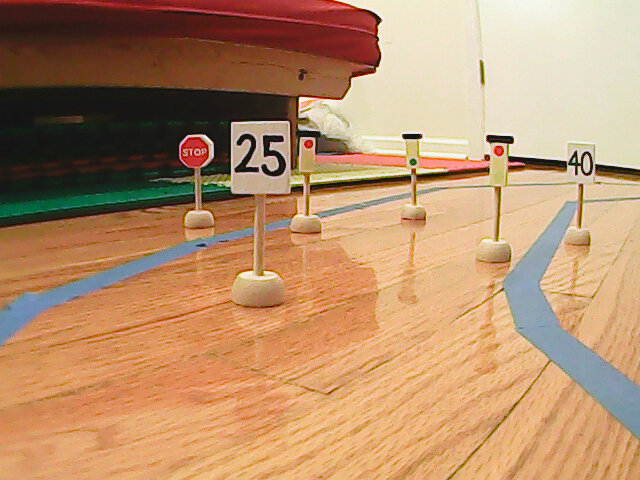Green Traffic Light: (401, 133, 424, 169)
Red Traffic Light: (486, 134, 513, 189), (296, 129, 320, 176)
Speed Limit 25: (229, 119, 293, 196)
Speed Limit 40: (565, 140, 594, 186)
Stop Sign: (175, 134, 218, 169)
